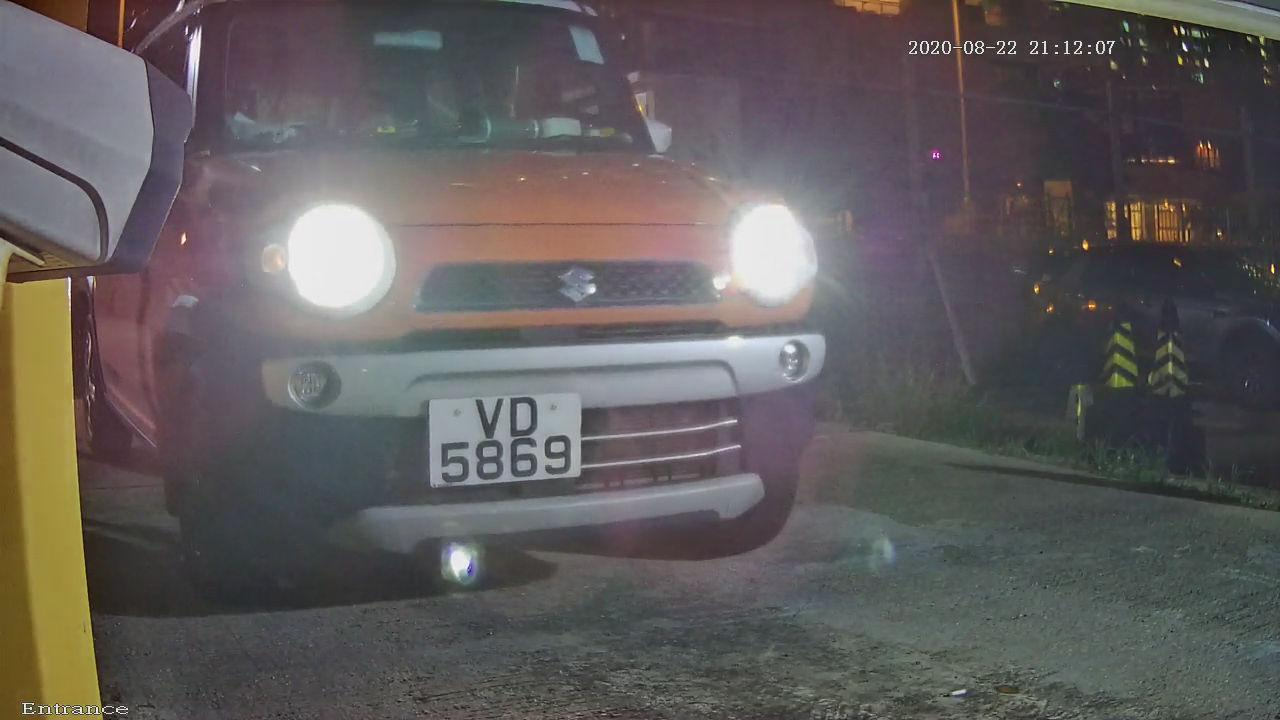Car: (46, 13, 938, 647)
License Plate: (412, 373, 612, 502)
